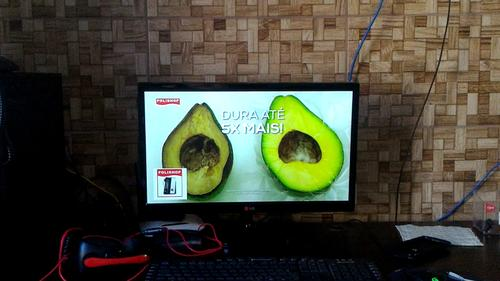Polishop #1: (153, 168, 188, 200)
